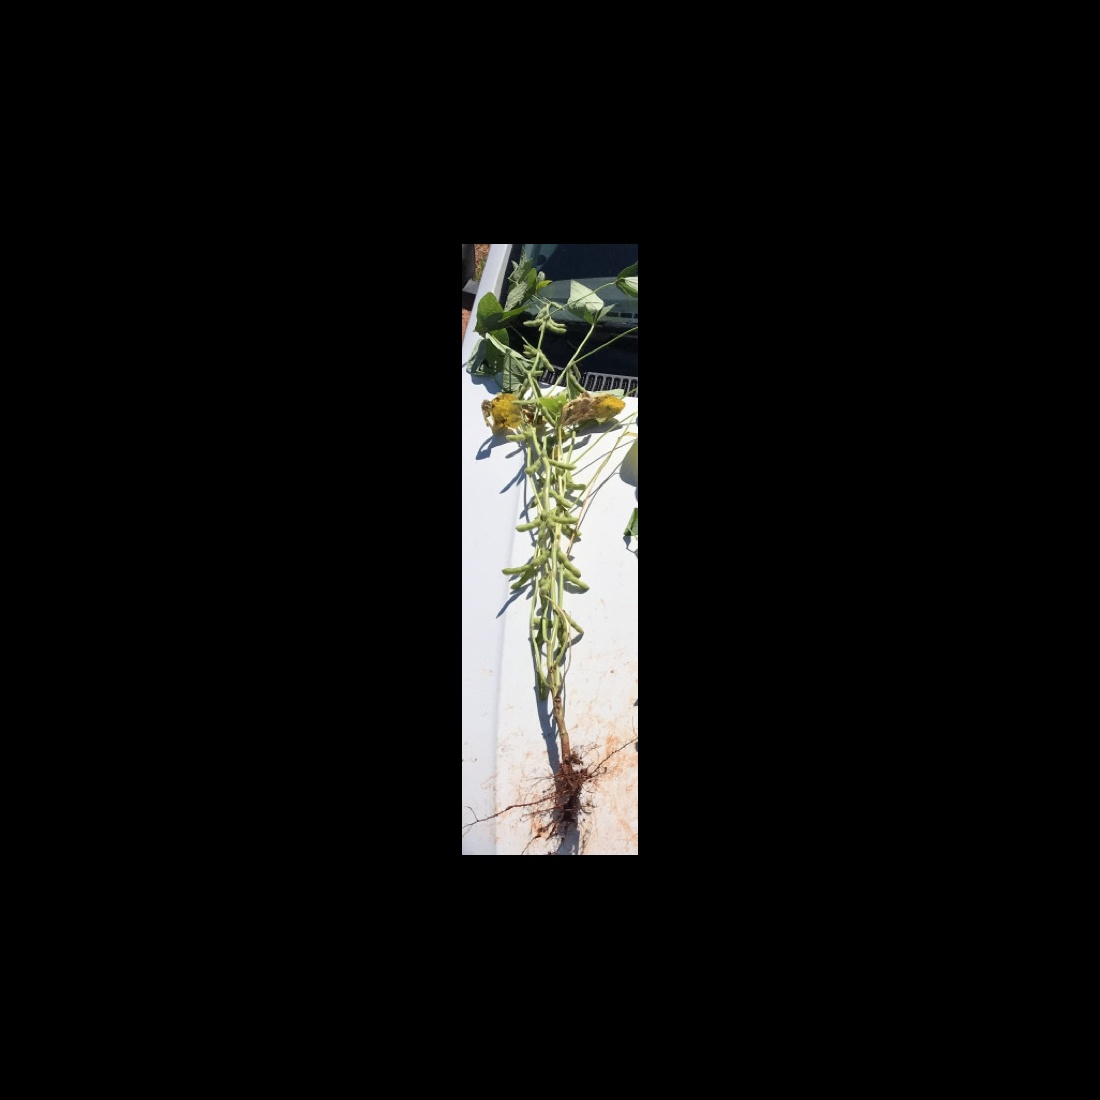pod: (556, 549, 581, 578), (502, 560, 537, 577), (529, 547, 554, 570), (564, 572, 590, 593), (513, 515, 545, 532), (548, 488, 574, 508), (565, 609, 585, 635), (524, 455, 545, 477), (548, 458, 577, 471), (552, 513, 580, 525), (504, 433, 532, 444), (541, 355, 556, 374)
soy: (475, 264, 630, 834)
